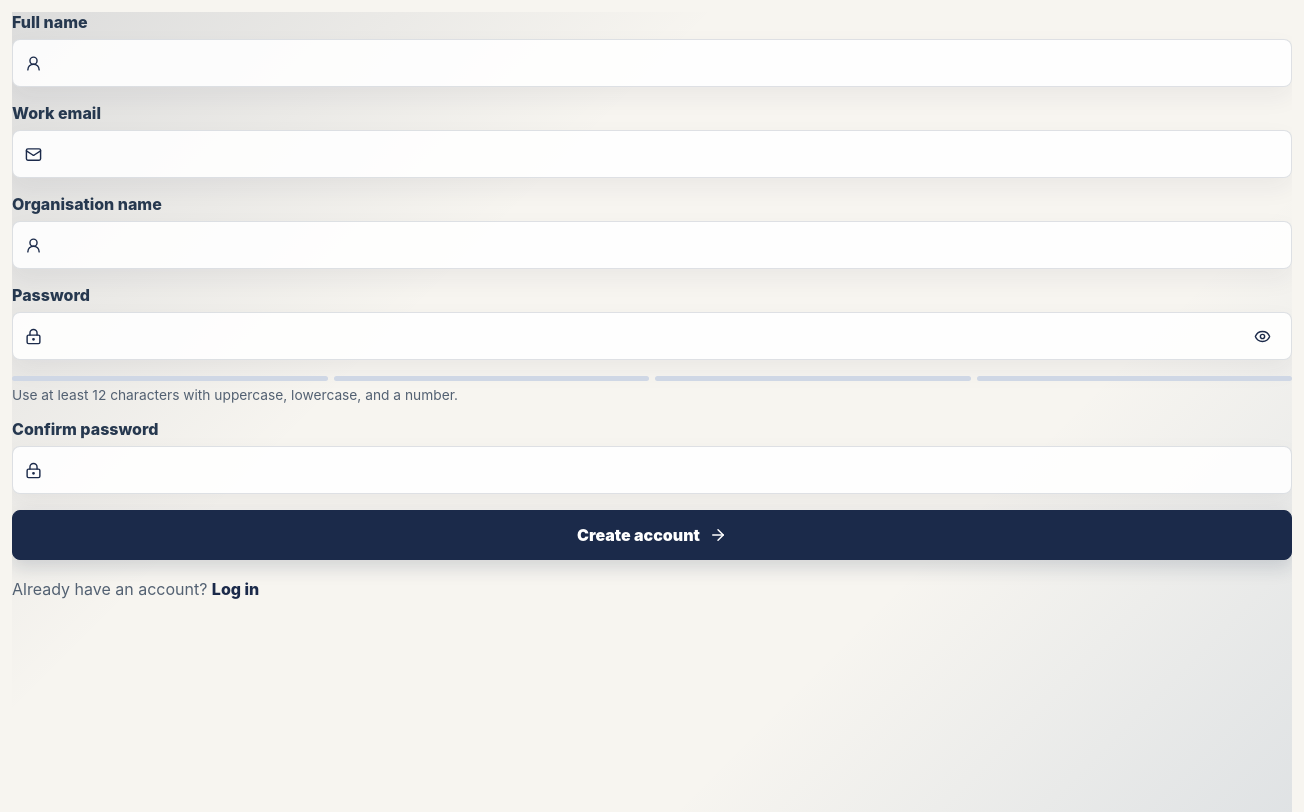
it: auth forms › validates registration before submitting
The image size is (1304, 812).
Click the button "Create account" at (652, 535), box [12,510,1292,560]
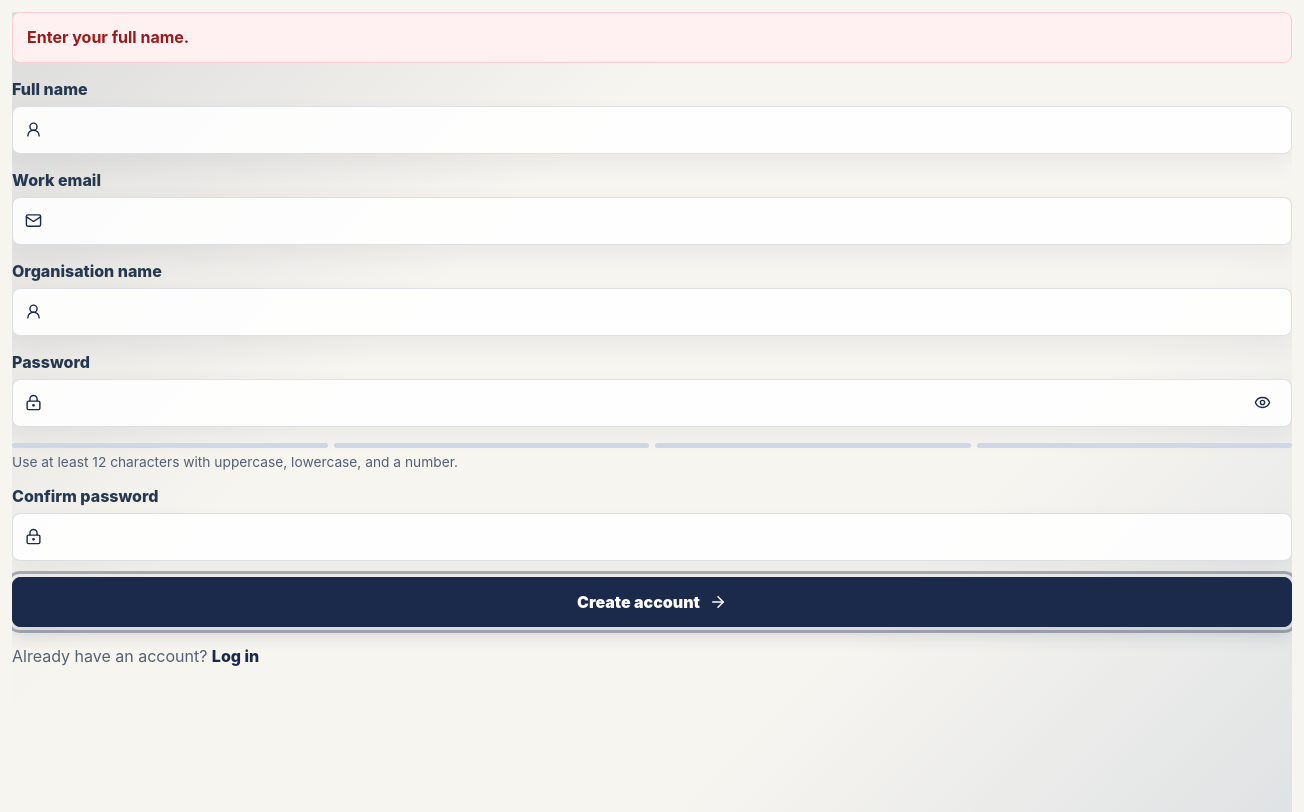
Check: the message reads "Enter your full name.", box [27,27,189,47]
